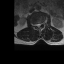CCS_normal: (37, 21, 39, 29)
LFS_normal: (41, 20, 43, 25)
LLS_normal: (39, 21, 41, 27)
RFS_normal: (34, 22, 36, 27)
RLS_normal: (36, 21, 37, 27)
